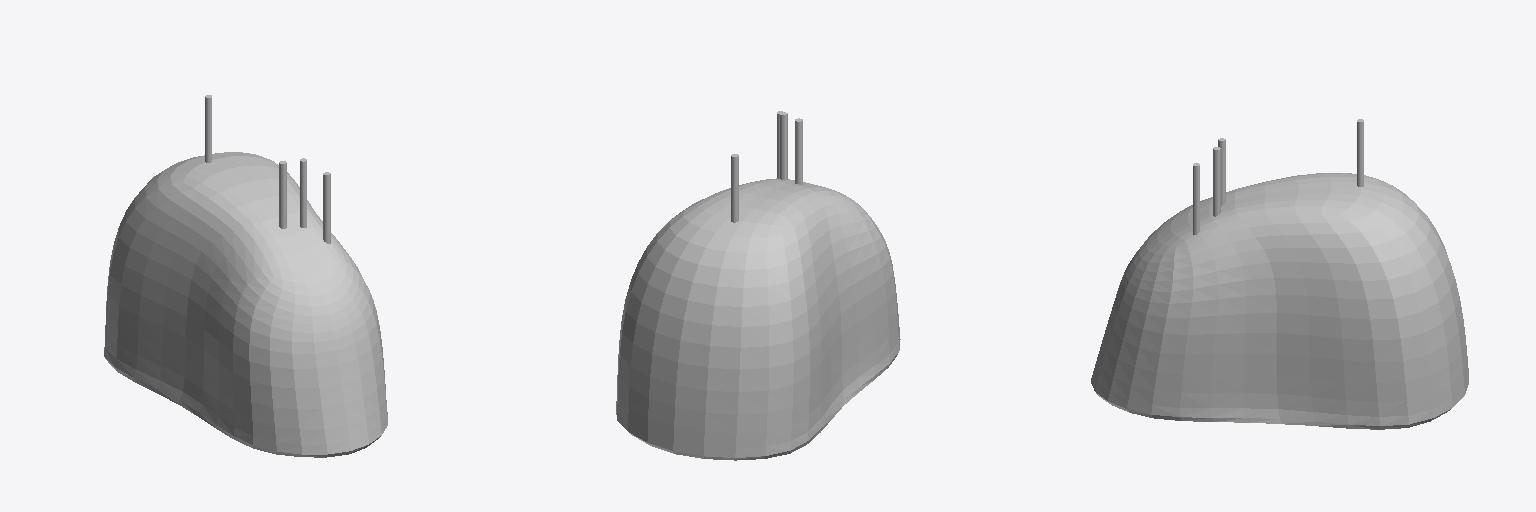
File: radio.obj
3 renders of one model, left to right at view 1: azimuth 30°, elevation 25°; view 2: azimuth 150°, elevation 25°; view 3: azimuth 270°, elevation 25°, orthographic.
Visible parts, largest first — view 1: Plane, Cylinder, Cylinder.002; view 2: Plane, Cylinder.003, Cylinder.001, Cylinder.002; view 3: Plane, Cylinder.001.
Boxes of the visible parts, box(x1,y1,x2,y2) form: Plane: box(104, 152, 387, 457); Cylinder: box(323, 172, 330, 243); Cylinder.002: box(279, 161, 286, 228); Plane: box(616, 178, 900, 460); Cylinder.003: box(731, 154, 738, 222); Cylinder.001: box(780, 112, 787, 179); Cylinder.002: box(795, 118, 802, 184); Plane: box(1091, 173, 1468, 429); Cylinder.001: box(1213, 147, 1220, 216).
Size of the model in its own units: 0.081 by 0.1125 by 0.1465.